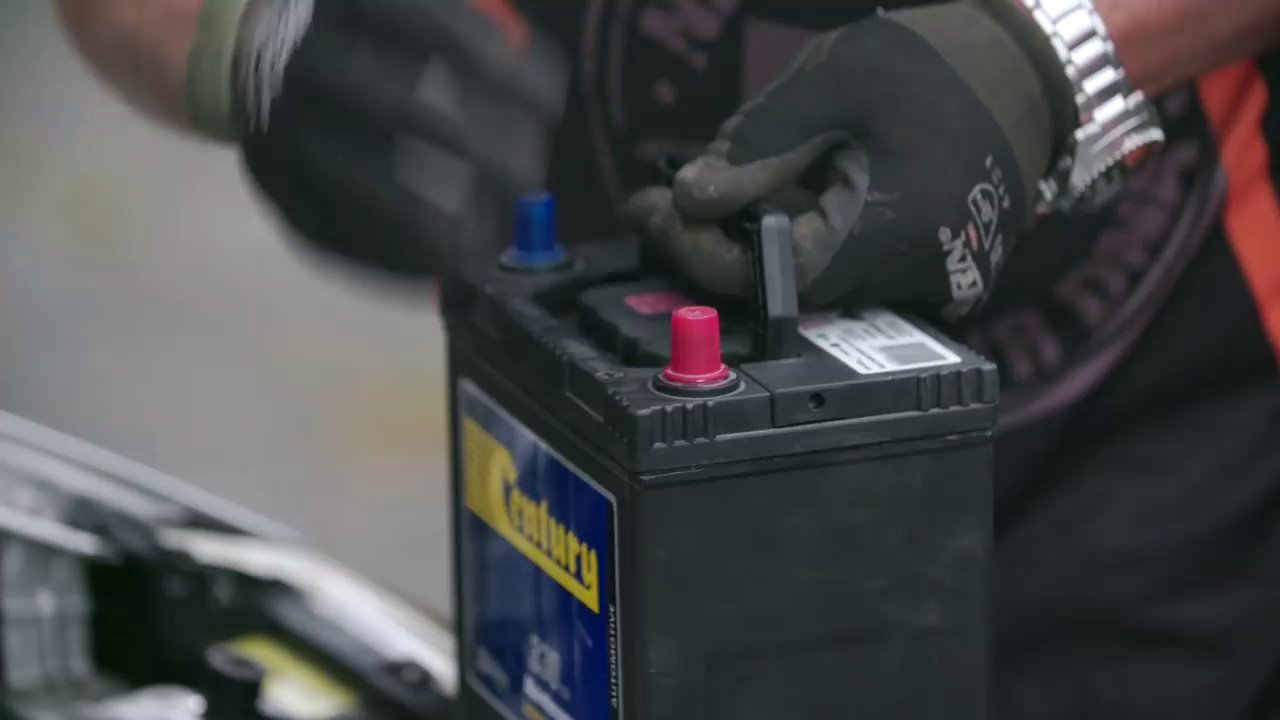battery: (451, 205, 1016, 417)
